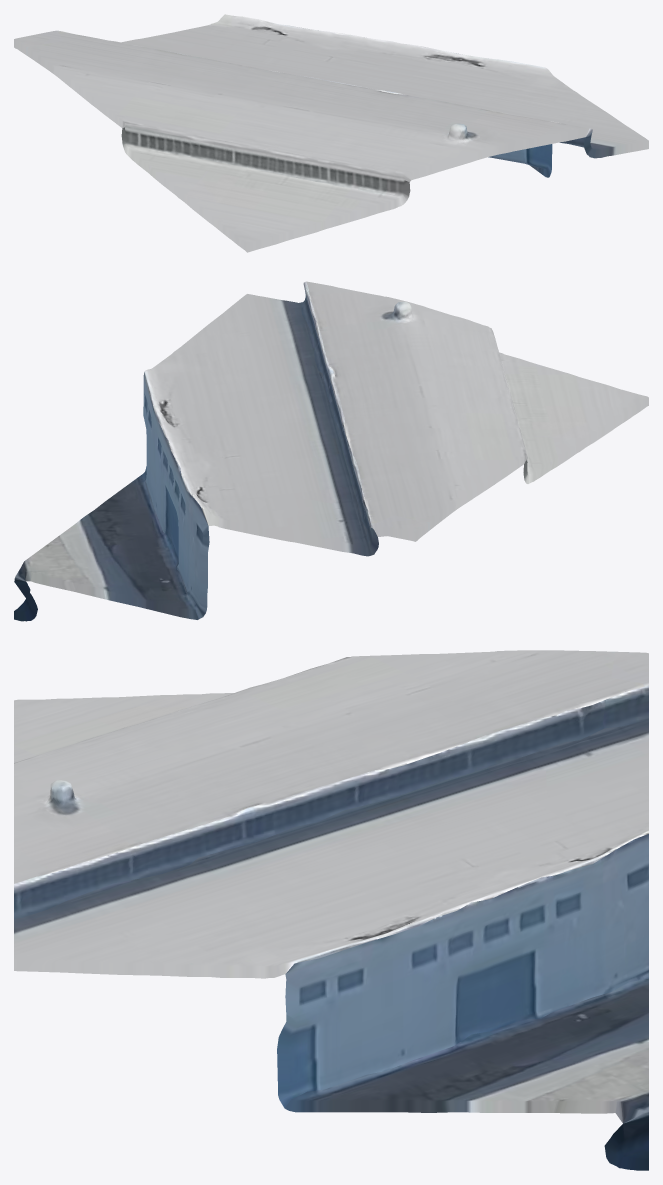
Rendered from z20-167771-405191-h0-yup-uvflip-v3-world.glb.
3 renders of one model, top to bottom at view 1: azimuth 30°, elevation 25°; view 2: azimuth 150°, elevation 25°; view 3: azimuth 270°, elevation 25°, orthographic. The views are drawn at different scales.
Size of the model in its own units: 30.16 by 14.4 by 30.32.
1 material, 1 textured.
